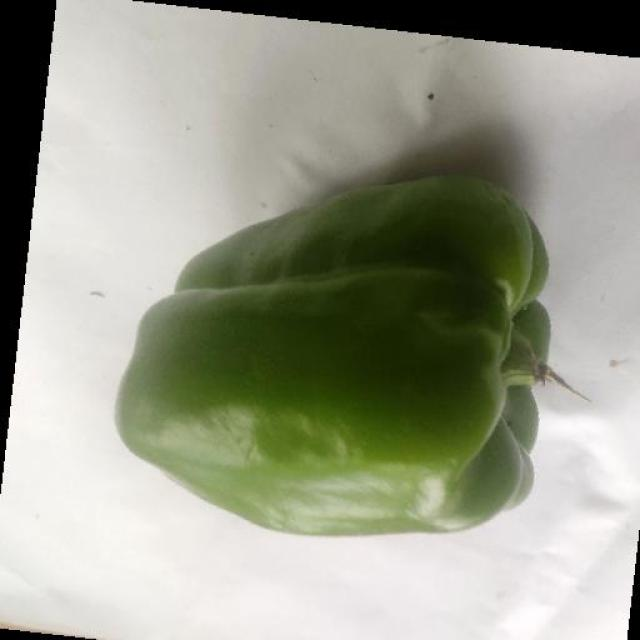Fresh_Capsicum: (198, 212, 520, 488)
